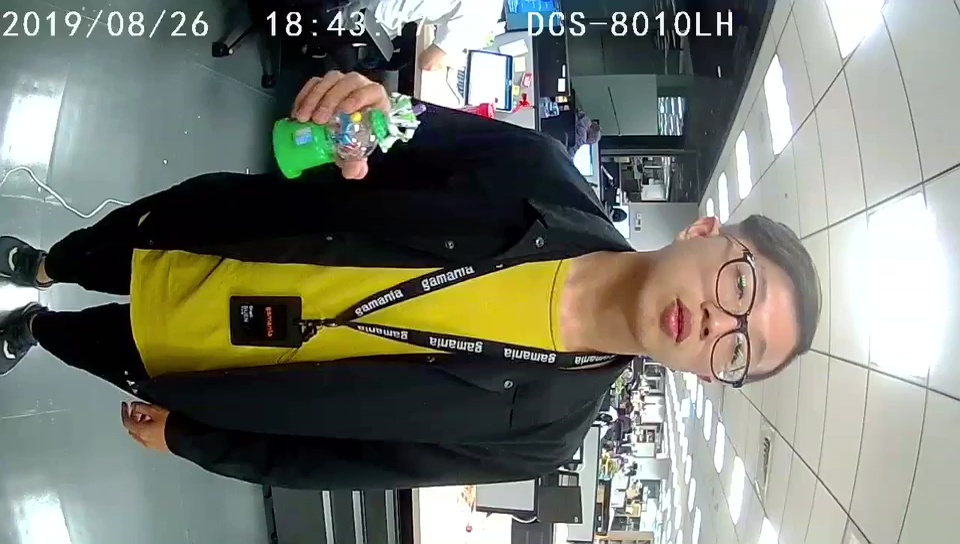buzz: (274, 90, 426, 180)
